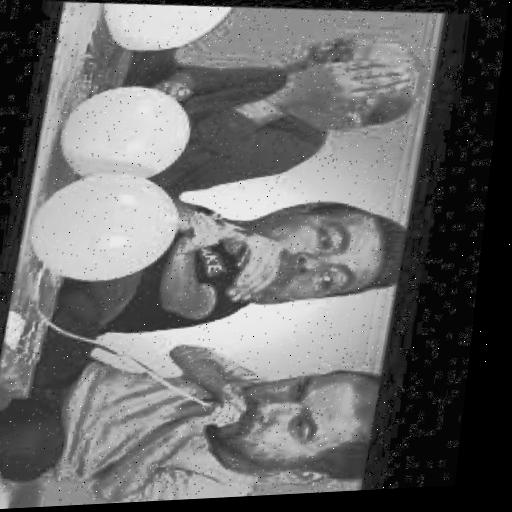balloon: (24, 163, 188, 287), (52, 76, 205, 187), (97, 0, 234, 57)
